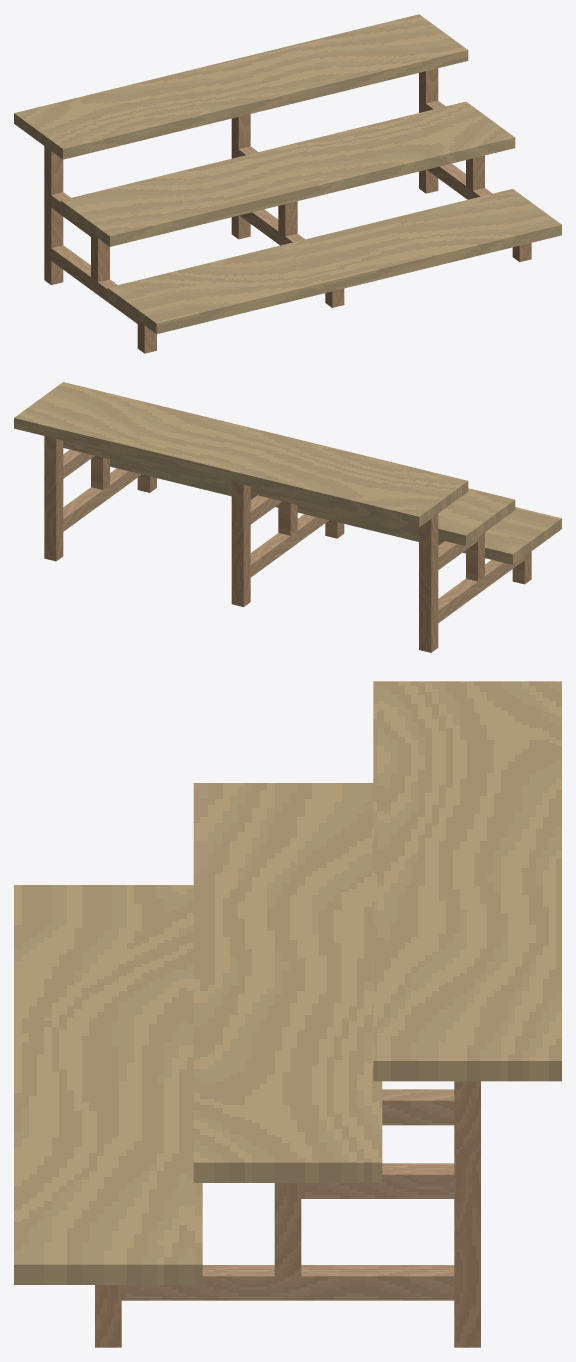
Rendered from 04d1_Bonsai_Display.glb.
3 views of the same model, one above another, from view 1: azimuth 30°, elevation 25°; view 2: azimuth 150°, elevation 25°; view 3: azimuth 270°, elevation 25° (orthographic). The views are drawn at different scales.
Visible parts, largest first — view 1: part_0; view 2: part_0; view 3: part_0.
Part boxes in pixels (<box>): part_0: <box>14,14,561,353</box>; part_0: <box>14,382,561,652</box>; part_0: <box>14,681,561,1347</box>.
Bounding box in the file's own units: 2 × 0.725 × 1.22.
Materials: 1 (1 with a texture image).
